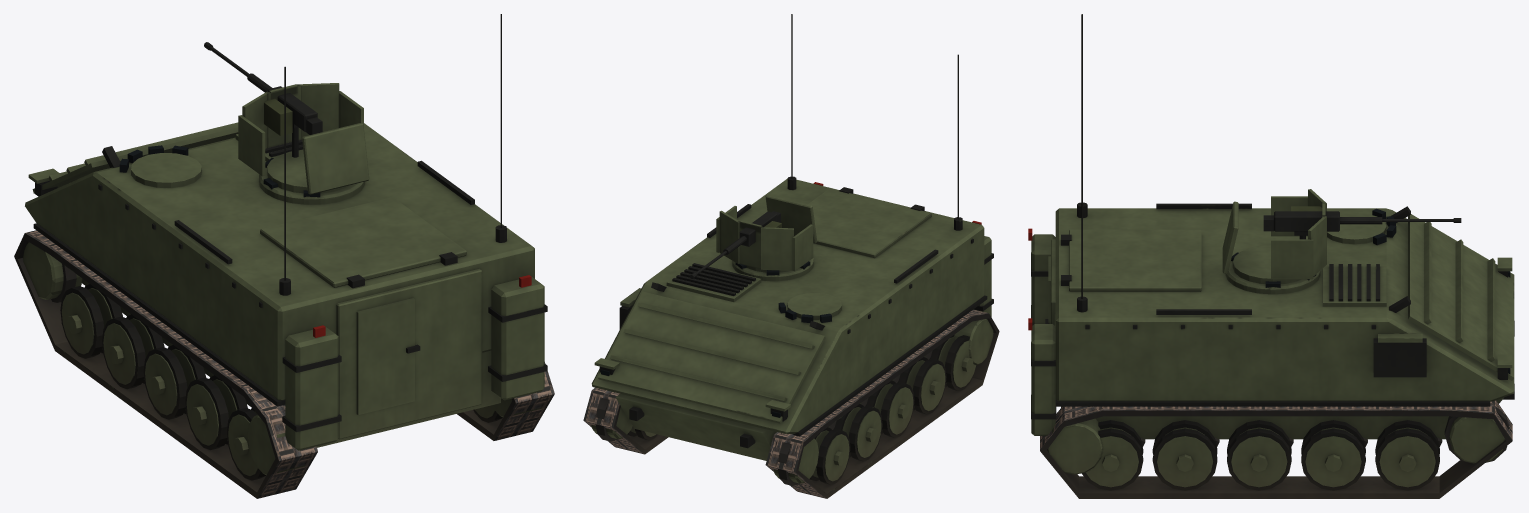
3 renders of one model, left to right at view 1: azimuth 30°, elevation 25°; view 2: azimuth 150°, elevation 25°; view 3: azimuth 270°, elevation 25°, orthographic. The views are drawn at different scales.
Parts seen in each view (by area): view 1: hull, turret; view 2: hull, turret; view 3: hull, turret.
Part boxes in pixels (x1,y1,x2,y2): hull: (14, 14, 554, 498); turret: (204, 42, 369, 204); hull: (583, 14, 999, 498); turret: (690, 194, 817, 281); hull: (1028, 14, 1514, 498); turret: (1222, 189, 1461, 294).
Bounding box in the file's own units: 2.71 × 3.93 × 4.59.
Materials: 2 (2 with a texture image).
